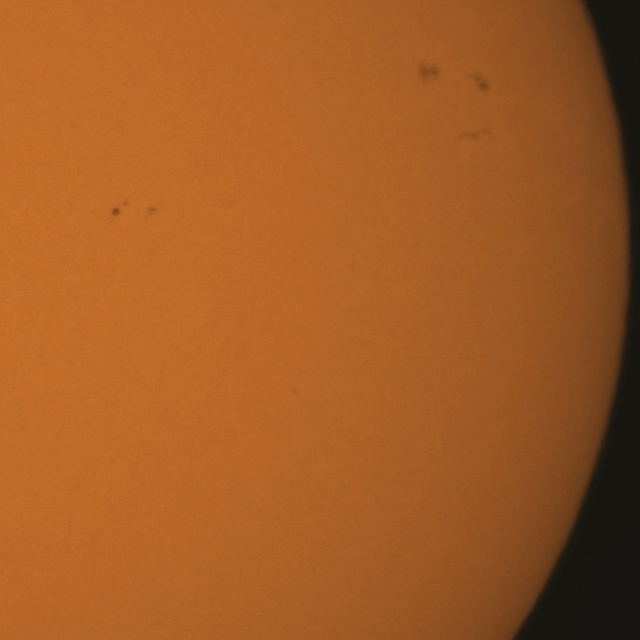sunspot: (417, 61, 441, 83), (472, 73, 492, 94), (110, 199, 130, 218), (147, 205, 159, 216)
